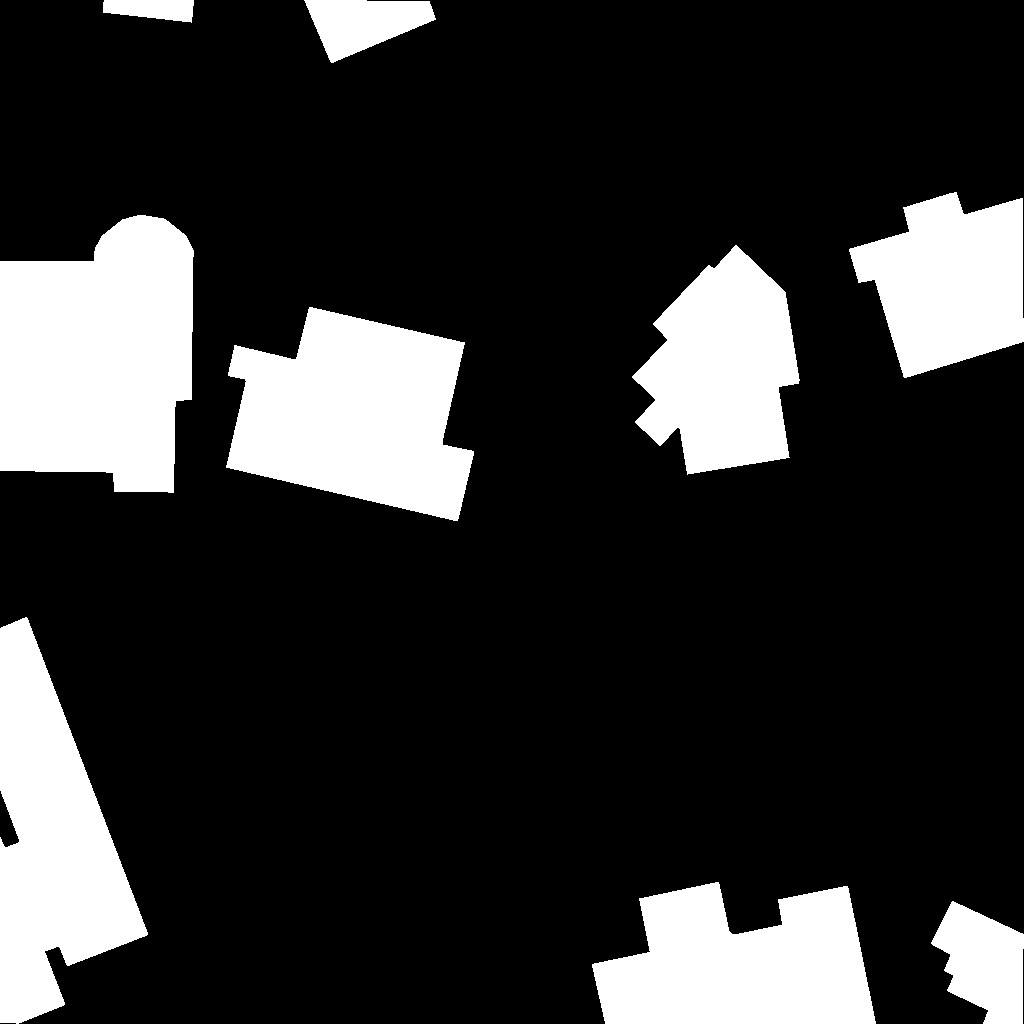building: (0, 617, 149, 1024), (0, 215, 194, 493), (226, 307, 475, 522), (592, 882, 877, 1024), (632, 245, 800, 475), (849, 192, 1024, 379), (931, 901, 1024, 1024), (304, 0, 437, 64), (103, 0, 195, 23)
